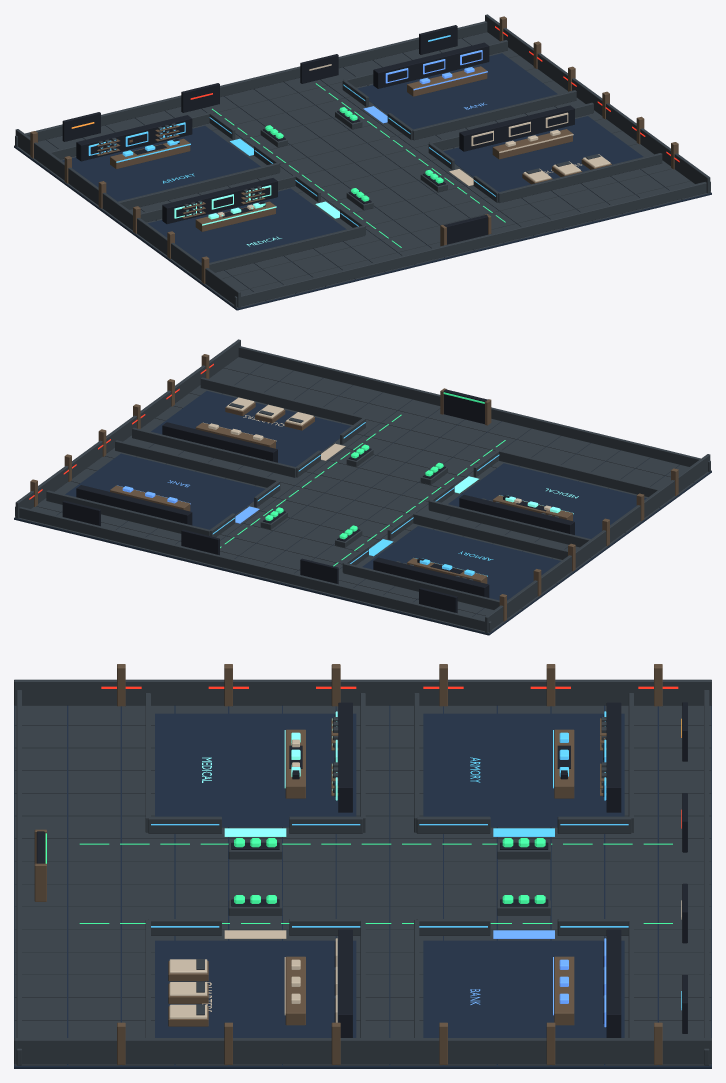
The model's file is civic_deck.glb.
The picture shows the model from 3 angles, top to bottom: view 1: azimuth 30°, elevation 25°; view 2: azimuth 150°, elevation 25°; view 3: azimuth 270°, elevation 25°; orthographic projection. The views are drawn at different scales.
Visible parts, largest first — view 1: Civic_architecture_1, Civic_architecture_0, Civic_architecture_5, Civic_architecture_2, Civic_architecture_9, Civic_architecture_4, Civic_architecture_6, Civic_architecture_8, Civic_architecture_7; view 2: Civic_architecture_1, Civic_architecture_0, Civic_architecture_5, Civic_architecture_2, Civic_architecture_9, Civic_architecture_6, Civic_architecture_4, Civic_architecture_7; view 3: Civic_architecture_1, Civic_architecture_0, Civic_architecture_2, Civic_architecture_5, Civic_architecture_9, Civic_architecture_4, Civic_architecture_6, Civic_architecture_8, Civic_architecture_7.
Part boxes in pixels (box(x1,y1,x2,y2)): Civic_architecture_1: box(14, 14, 711, 308); Civic_architecture_0: box(14, 41, 711, 310); Civic_architecture_5: box(62, 25, 574, 244); Civic_architecture_2: box(30, 16, 678, 283); Civic_architecture_9: box(217, 64, 610, 216); Civic_architecture_4: box(88, 35, 495, 226); Civic_architecture_6: box(212, 83, 505, 247); Civic_architecture_8: box(363, 50, 487, 123); Civic_architecture_7: box(174, 185, 339, 246); Civic_architecture_1: box(14, 339, 711, 633); Civic_architecture_0: box(14, 366, 711, 635); Civic_architecture_5: box(62, 389, 574, 613); Civic_architecture_2: box(30, 354, 678, 621); Civic_architecture_9: box(203, 397, 551, 510); Civic_architecture_6: box(220, 392, 505, 566); Civic_architecture_4: box(212, 422, 499, 576); Civic_architecture_7: box(454, 476, 578, 514); Civic_architecture_1: box(14, 679, 711, 1065); Civic_architecture_0: box(14, 705, 711, 1068); Civic_architecture_2: box(34, 664, 662, 1064); Civic_architecture_5: box(36, 702, 687, 1037); Civic_architecture_9: box(169, 739, 681, 1022); Civic_architecture_4: box(151, 711, 681, 1010); Civic_architecture_6: box(45, 833, 672, 923); Civic_architecture_8: box(470, 930, 606, 1027); Civic_architecture_7: box(202, 711, 337, 836).
Size of the model in its own units: 64 by 3.49 by 52.
